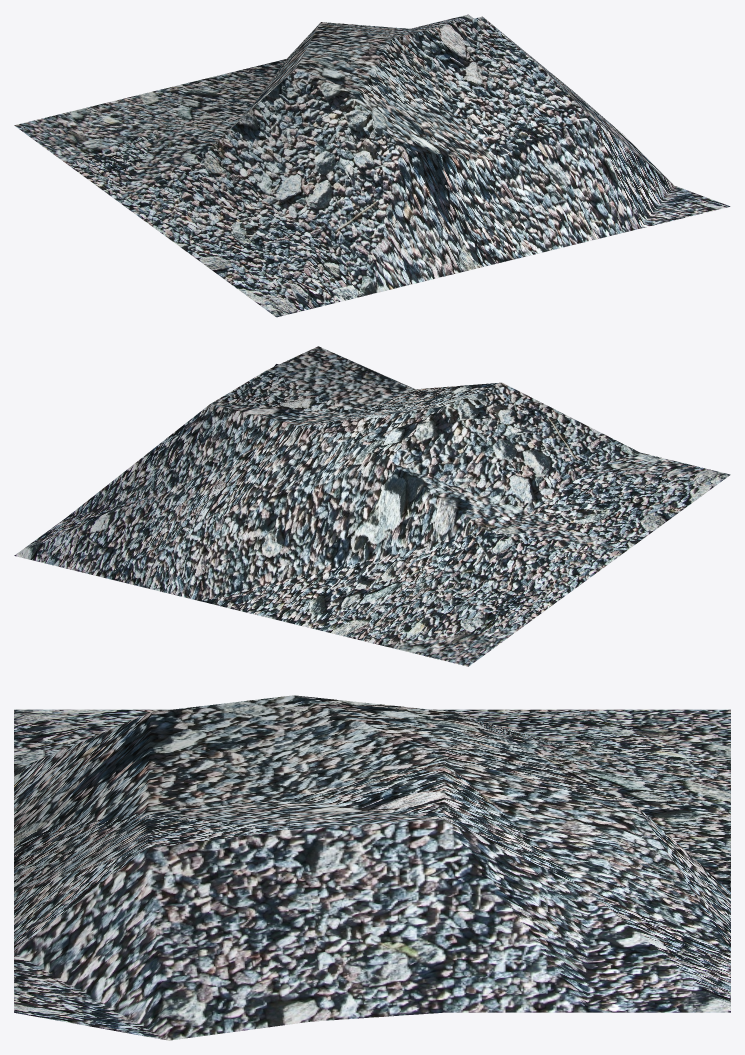
The model's file is schutthaufen_02.fbx.
3 renders of one model, top to bottom at view 1: azimuth 30°, elevation 25°; view 2: azimuth 150°, elevation 25°; view 3: azimuth 270°, elevation 25°, orthographic. The views are drawn at different scales.
Parts seen in each view (by area): view 1: pPlane1; view 2: pPlane1; view 3: pPlane1.
Boxes of the visible parts, left/top/right/bottom form: pPlane1: left=14, top=14, right=730, bottom=317; pPlane1: left=14, top=346, right=730, bottom=666; pPlane1: left=14, top=695, right=730, bottom=1040.
Bounding box in the file's own units: 4.31 × 1.08 × 4.31.
Materials: 1 (1 with a texture image).
